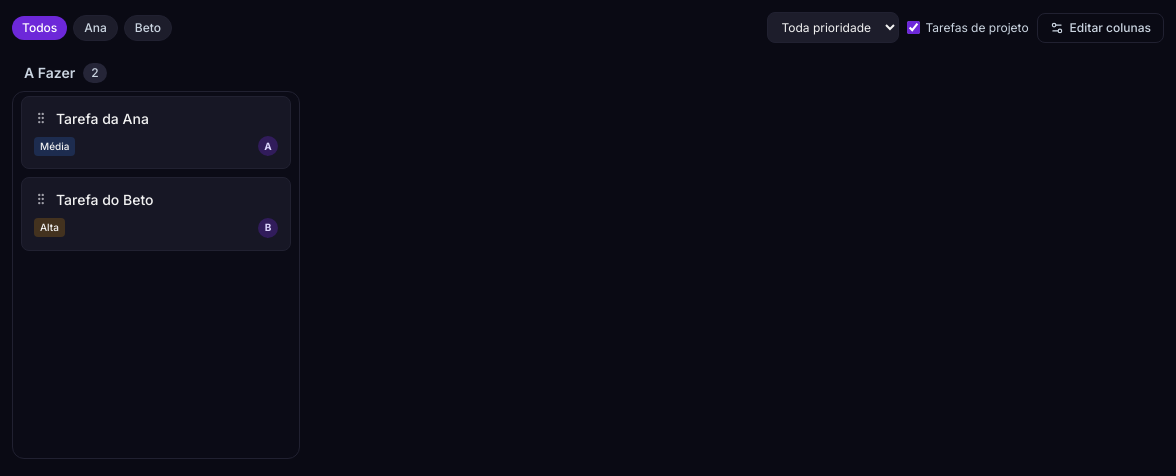
Test case: KanbanEquipeGeral — filtro por membro › clicar no chip de um membro filtra as tarefas
Chip do membro Ana (botão com o nome)
Click the button "Ana" at [96, 28], box [73,14,118,40]
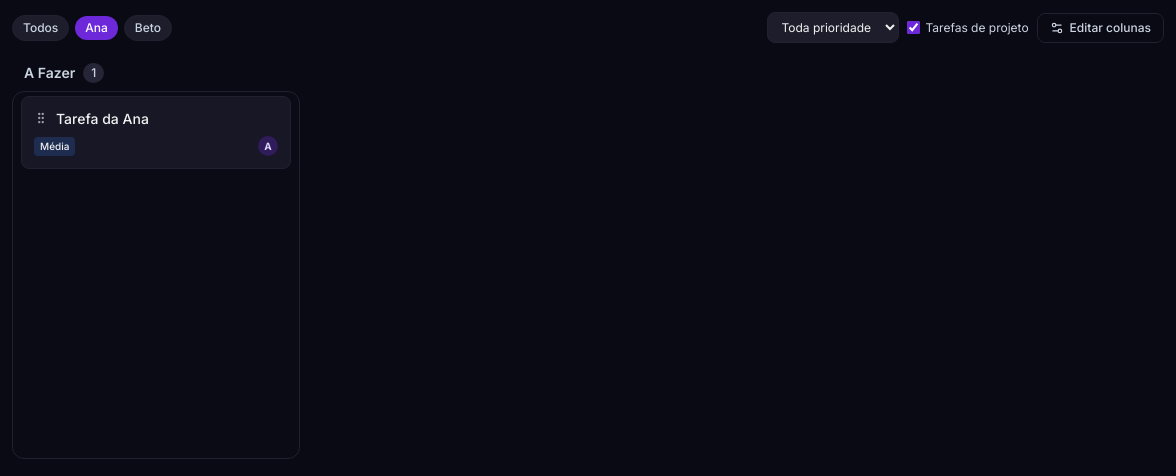
Expected: the text "Tarefa da Ana" is shown, [56,110,149,127]
Expected: the button "Tarefa do Beto" is gone
